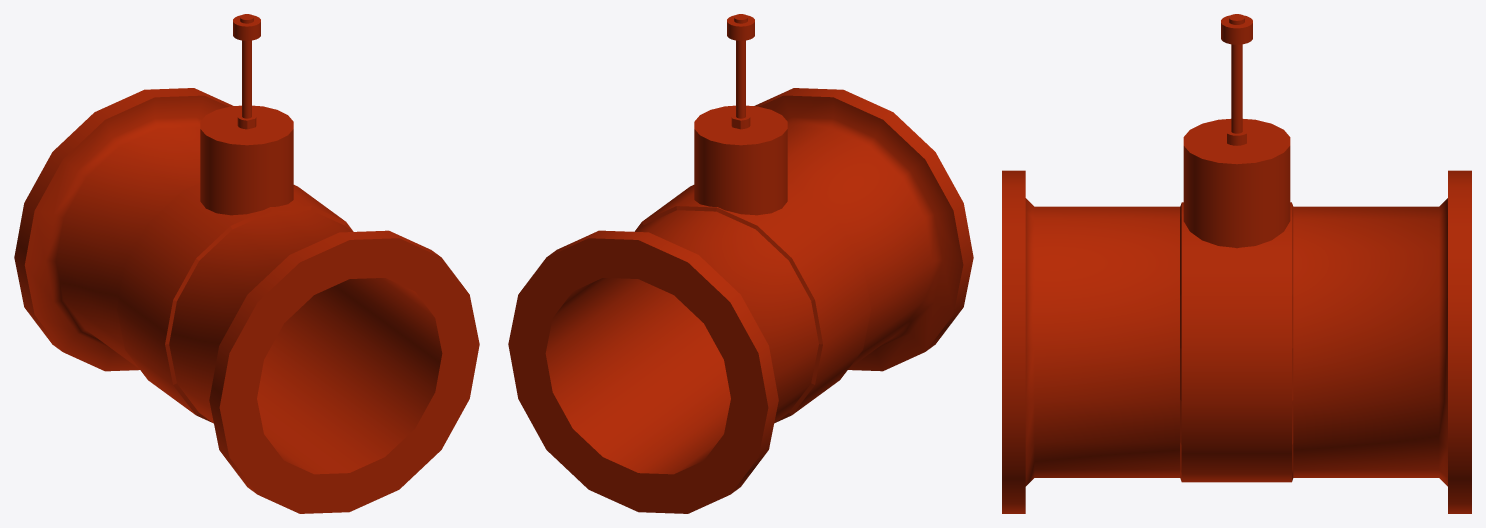
Rendered from sPipeValve_01.FBX.
The picture shows the model from 3 angles, left to right: view 1: azimuth 30°, elevation 25°; view 2: azimuth 150°, elevation 25°; view 3: azimuth 270°, elevation 25°; orthographic projection. The views are drawn at different scales.
Visible parts, largest first — view 1: PipeValve_up1_01_Low003; view 2: PipeValve_up1_01_Low003; view 3: PipeValve_up1_01_Low003.
Boxes of the visible parts, box(x1,y1,x2,y2) form: PipeValve_up1_01_Low003: box(14, 14, 479, 513); PipeValve_up1_01_Low003: box(508, 14, 973, 513); PipeValve_up1_01_Low003: box(1002, 14, 1471, 513).
Bounding box in the file's own units: 19 × 29.32 × 25.97.
